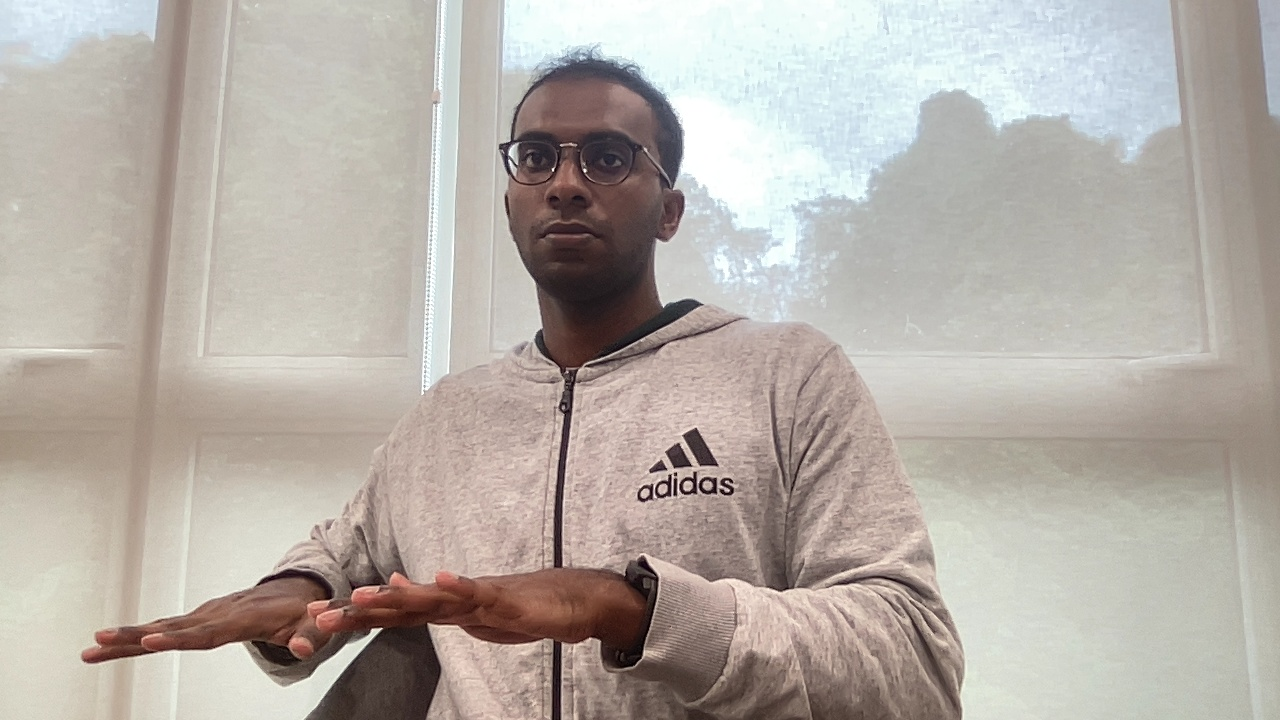finish: (75, 566, 624, 668)
